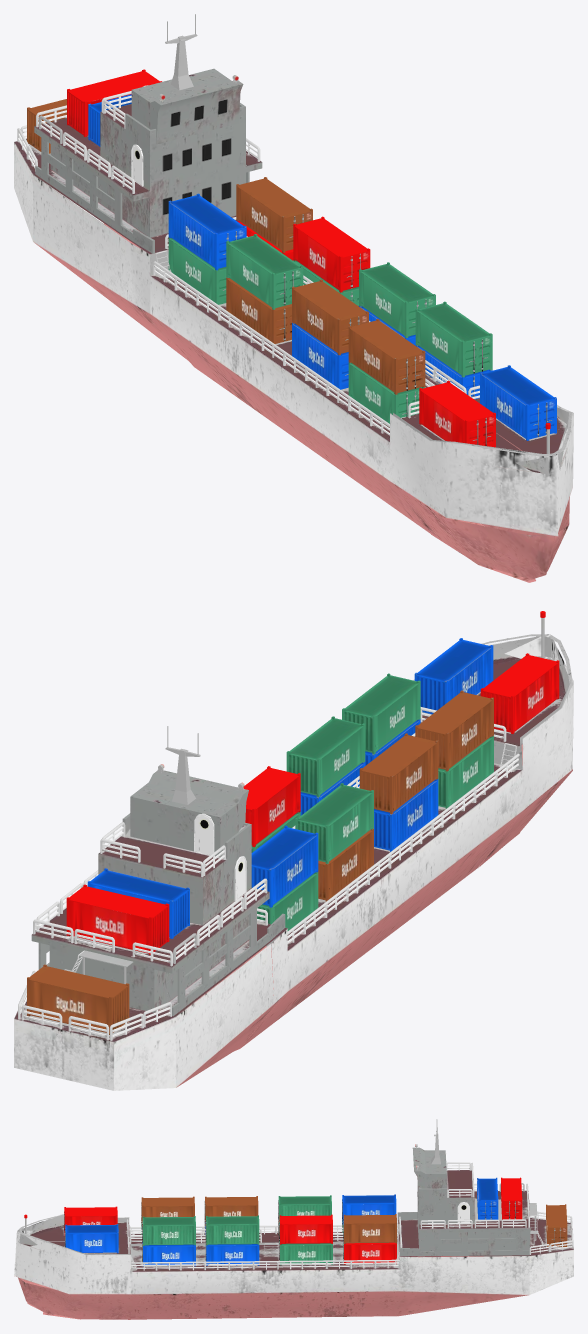
The model's file is ship_coaster.glb.
3 renders of one model, top to bottom at view 1: azimuth 30°, elevation 25°; view 2: azimuth 150°, elevation 25°; view 3: azimuth 270°, elevation 25°, orthographic. The views are drawn at different scales.
Visible parts, largest first — view 1: defaultMaterial.097, defaultMaterial.118, defaultMaterial.095, defaultMaterial.216, defaultMaterial.042, defaultMaterial.273, defaultMaterial.310, defaultMaterial.035, defaultMaterial.179, defaultMaterial.192, defaultMaterial.296, defaultMaterial.199 (+10 smaller); view 2: defaultMaterial.097, defaultMaterial.118, defaultMaterial.052, defaultMaterial.059, defaultMaterial.296, defaultMaterial.199, defaultMaterial.035, defaultMaterial.216, defaultMaterial.095, defaultMaterial.273, defaultMaterial.042, defaultMaterial.179 (+10 smaller); view 3: defaultMaterial.097, defaultMaterial.118, defaultMaterial.110, defaultMaterial.296, defaultMaterial.310, defaultMaterial.192, defaultMaterial.216, defaultMaterial.042, defaultMaterial.179, defaultMaterial.095, defaultMaterial.199, defaultMaterial.273 (+9 smaller).
Boxes of the visible parts, <box> form: defaultMaterial.097: <box>14,138,573,582</box>; defaultMaterial.118: <box>34,68,262,237</box>; defaultMaterial.095: <box>348,319,425,394</box>; defaultMaterial.216: <box>415,301,492,377</box>; defaultMaterial.042: <box>480,365,556,440</box>; defaultMaterial.273: <box>226,234,303,309</box>; defaultMaterial.310: <box>293,216,370,292</box>; defaultMaterial.035: <box>419,380,495,447</box>; defaultMaterial.179: <box>168,193,246,270</box>; defaultMaterial.192: <box>236,177,312,252</box>; defaultMaterial.296: <box>359,262,435,338</box>; defaultMaterial.199: <box>292,279,368,355</box>; defaultMaterial.097: <box>14,634,573,1090</box>; defaultMaterial.118: <box>31,770,269,1012</box>; defaultMaterial.052: <box>66,884,169,954</box>; defaultMaterial.059: <box>27,964,129,1034</box>; defaultMaterial.296: <box>286,716,365,797</box>; defaultMaterial.199: <box>359,733,438,814</box>; defaultMaterial.035: <box>480,653,559,733</box>; defaultMaterial.216: <box>342,673,420,754</box>; defaultMaterial.095: <box>415,690,493,771</box>; defaultMaterial.273: <box>295,783,373,863</box>; defaultMaterial.042: <box>414,638,493,714</box>; defaultMaterial.179: <box>251,825,318,907</box>; defaultMaterial.097: <box>14,1214,573,1319</box>; defaultMaterial.118: <box>412,1147,530,1251</box>; defaultMaterial.110: <box>399,1231,529,1256</box>; defaultMaterial.296: <box>206,1215,259,1245</box>; defaultMaterial.310: <box>279,1214,332,1244</box>; defaultMaterial.192: <box>343,1214,396,1243</box>; defaultMaterial.216: <box>142,1216,195,1245</box>; defaultMaterial.042: <box>65,1224,118,1253</box>; defaultMaterial.179: <box>342,1194,396,1224</box>; defaultMaterial.095: <box>141,1196,194,1226</box>; defaultMaterial.199: <box>205,1196,258,1225</box>; defaultMaterial.273: <box>278,1195,331,1224</box>.
Bounding box in the file's own units: 12.61 × 25.93 × 70.47.
Materials: 1 (1 with a texture image).
